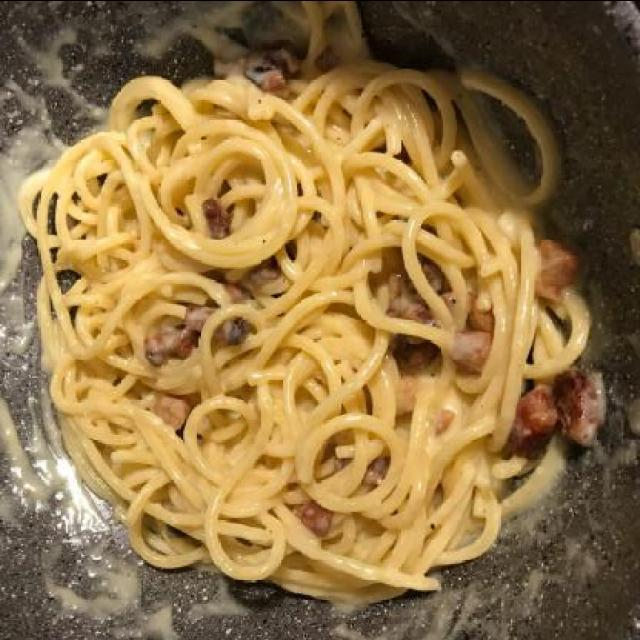Pasta with carbonara sauce: (24, 49, 580, 614)
